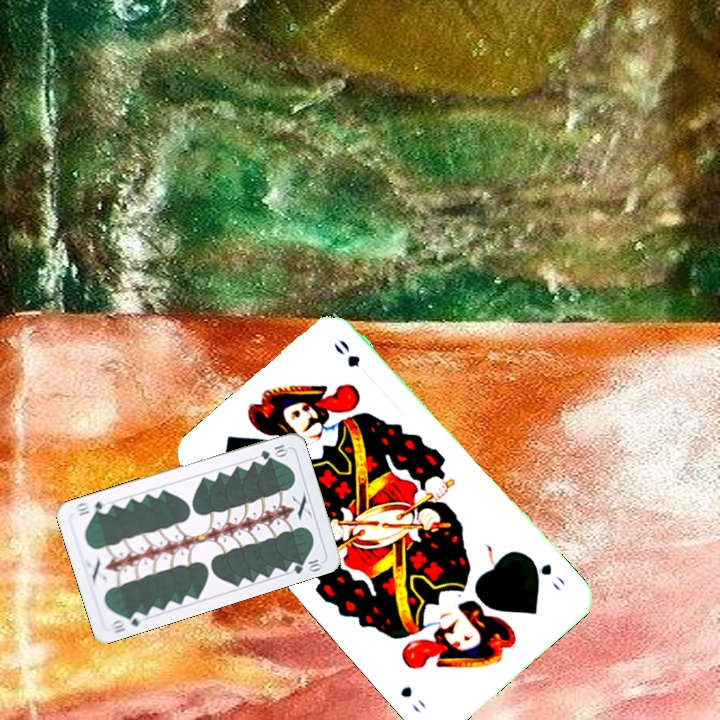G10: (106, 608, 147, 636), (256, 440, 290, 462)
GO: (524, 553, 568, 594)
